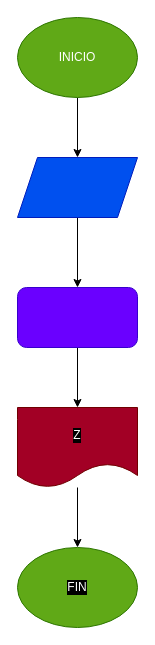
Some shapes in this 155 by 645 pixel diagram are drawn without their labels. The centre of each missing label's shape, as x and y in pixels:
X , Y: the point at 77,187
z = x^y: the point at 77,317
